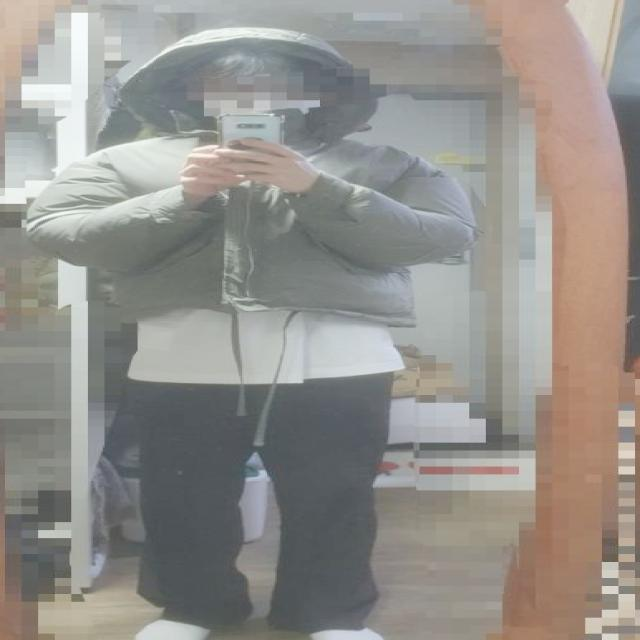padding: (26, 21, 473, 323)
trainingpants: (129, 360, 401, 634)
